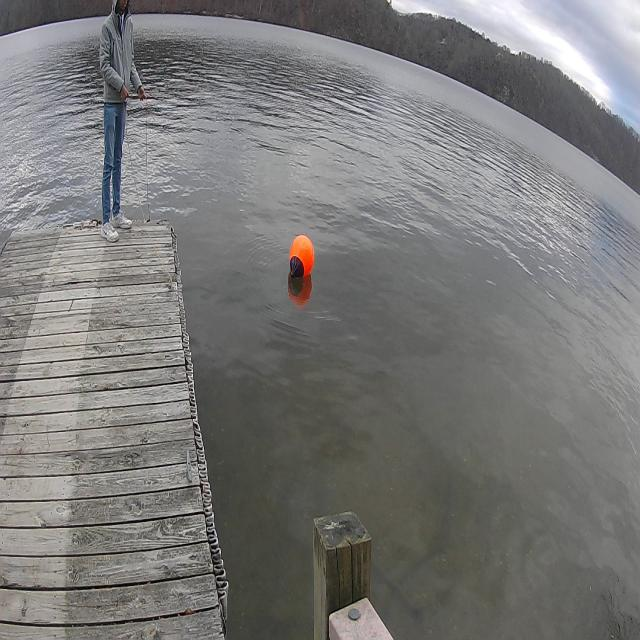Buoy: (289, 230, 316, 286)
